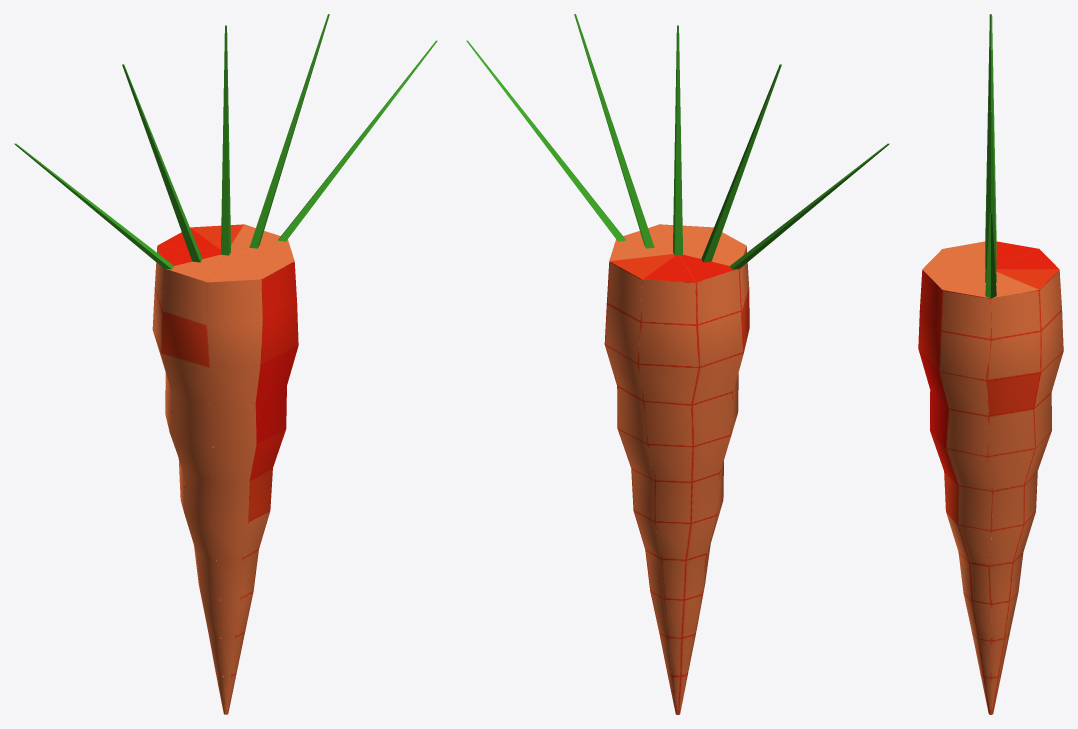
File: carrot.obj
The picture shows the model from 3 angles, left to right: view 1: azimuth 30°, elevation 25°; view 2: azimuth 150°, elevation 25°; view 3: azimuth 270°, elevation 25°; orthographic projection. The views are drawn at different scales.
Visible parts, largest first — view 1: Carrot; view 2: Carrot; view 3: Carrot.
Boxes of the visible parts, x1=… form: Carrot: x1=14, y1=14, x2=437, y2=714; Carrot: x1=466, y1=14, x2=889, y2=714; Carrot: x1=918, y1=14, x2=1063, y2=714.
Size of the model in its own units: 0.818 by 1.27 by 0.2519.
